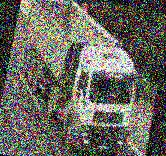truck: (6, 0, 152, 156)
